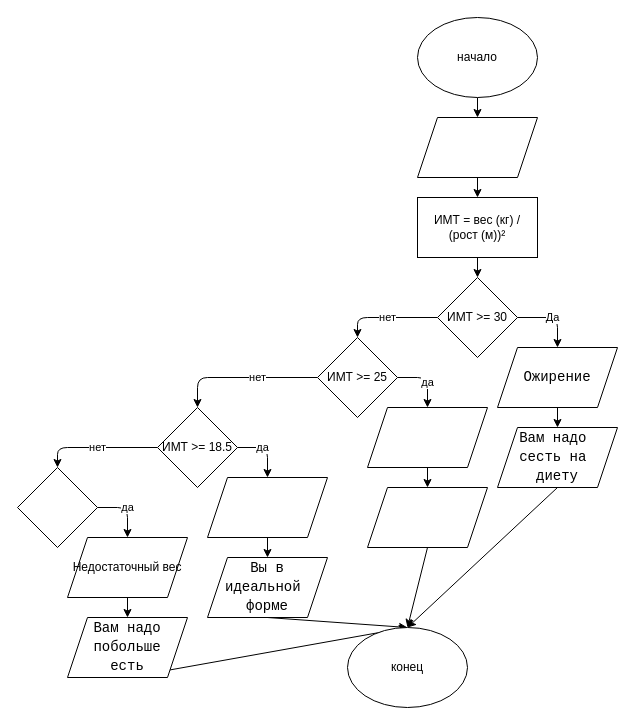
Some shapes in this 635 by 725 pixel diagram are drawn without their labels. The shapes that lost their labels are listed below. From the top down, each one's box as (x1, y1, x2, y2) in pixels, then its label:
(416, 116, 538, 178): Ввод веса и роста
(366, 406, 488, 468): Избыточный вес
(16, 466, 98, 548): ИМТ < 18.5
(206, 476, 328, 538): Нормальный вес
(366, 486, 488, 548): Вам надо поменьше есть
